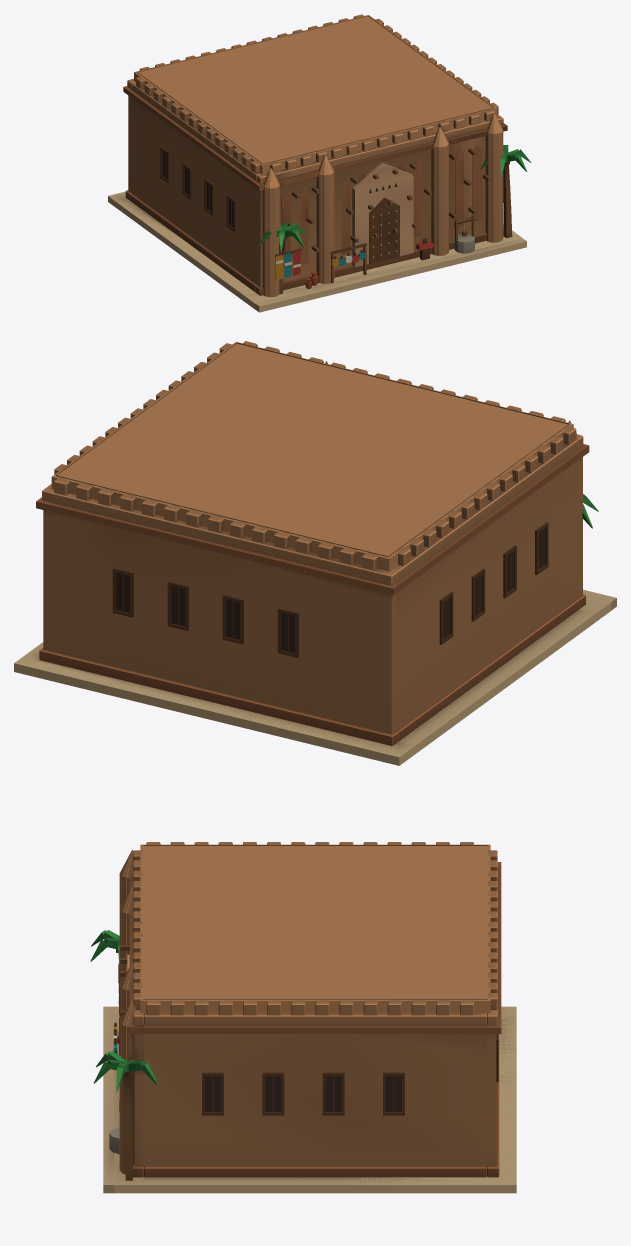
The model's file is CanteenCamelFloor.fbx.
3 renders of one model, top to bottom at view 1: azimuth 30°, elevation 25°; view 2: azimuth 150°, elevation 25°; view 3: azimuth 270°, elevation 25°, orthographic. The views are drawn at different scales.
Visible parts, largest first — view 1: OA_S_All, OA_F_Smooth, OA_F_Rings, OA_F_Quiet, OA_F_Props, OA_F_Glass; view 2: OA_F_Rings, OA_S_All, OA_F_Smooth, OA_F_Quiet, OA_F_Glass; view 3: OA_S_All, OA_F_Rings, OA_F_Smooth, OA_F_Quiet, OA_F_Glass, OA_F_Props.
Boxes of the visible parts, left/top/right/bottom form: OA_S_All: left=108, top=15, right=522, bottom=309; OA_F_Smooth: left=123, top=14, right=531, bottom=312; OA_F_Rings: left=128, top=15, right=503, bottom=287; OA_F_Quiet: left=108, top=86, right=526, bottom=306; OA_F_Props: left=270, top=145, right=521, bottom=294; OA_F_Glass: left=162, top=151, right=233, bottom=227; OA_F_Rings: left=42, top=342, right=581, bottom=734; OA_S_All: left=14, top=342, right=611, bottom=765; OA_F_Smooth: left=36, top=341, right=616, bottom=745; OA_F_Quiet: left=19, top=444, right=616, bottom=756; OA_F_Glass: left=116, top=528, right=545, bottom=653; OA_S_All: left=114, top=844, right=516, bottom=1193; OA_F_Rings: left=109, top=845, right=497, bottom=1166; OA_F_Smooth: left=90, top=842, right=501, bottom=1193; OA_F_Quiet: left=103, top=862, right=516, bottom=1184; OA_F_Glass: left=205, top=1076, right=401, bottom=1111; OA_F_Props: left=102, top=930, right=145, bottom=1180.
Size of the model in its own units: 60 by 20 by 60.
